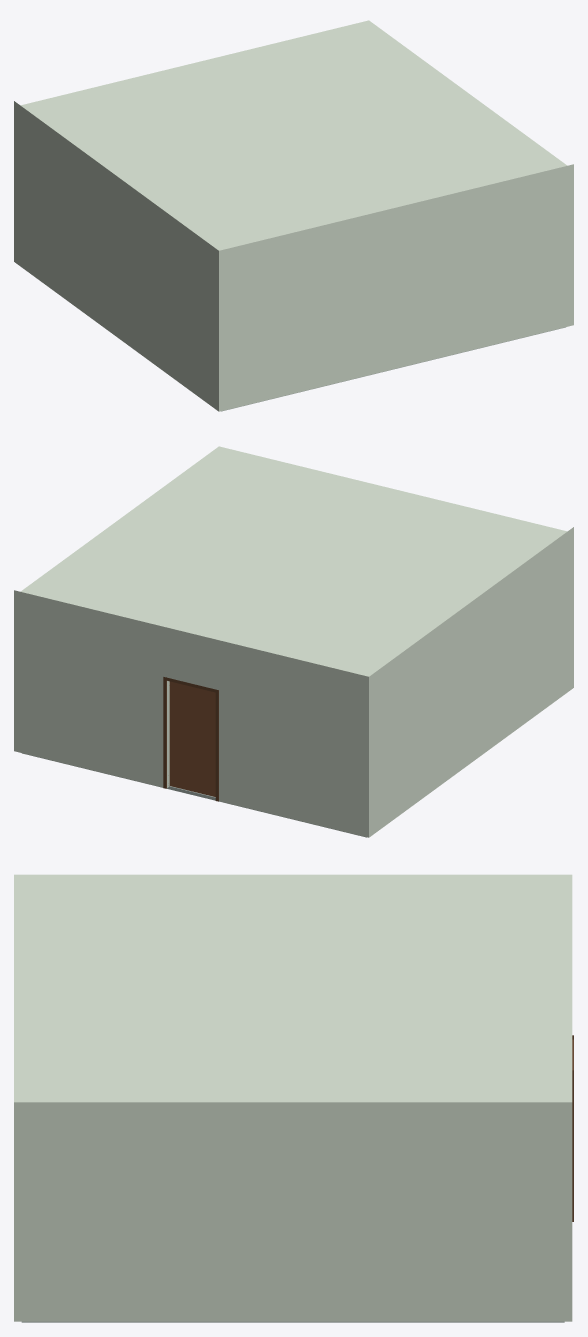
Rendered from room_bath3.glb.
3 views of the same model, one above another, from view 1: azimuth 30°, elevation 25°; view 2: azimuth 150°, elevation 25°; view 3: azimuth 270°, elevation 25° (orthographic). The views are drawn at different scales.
Visible parts, largest first — view 1: WALLS, CEILING; view 2: WALLS, CEILING, DOOR_bed, FRAMES; view 3: CEILING, WALLS, FLOOR_visible.
Part boxes in pixels (left/top/right/bottom): WALLS: left=14, top=107, right=573, bottom=411; CEILING: left=14, top=20, right=573, bottom=256; WALLS: left=14, top=533, right=573, bottom=837; CEILING: left=14, top=446, right=573, bottom=682; DOOR_bed: left=170, top=681, right=215, bottom=796; FRAMES: left=163, top=677, right=218, bottom=801; CEILING: left=14, top=874, right=572, bottom=1110; WALLS: left=14, top=1110, right=572, bottom=1321; FLOOR_visible: left=21, top=1321, right=564, bottom=1322.
Size of the model in its own units: 7.2 by 3.18 by 7.22.
